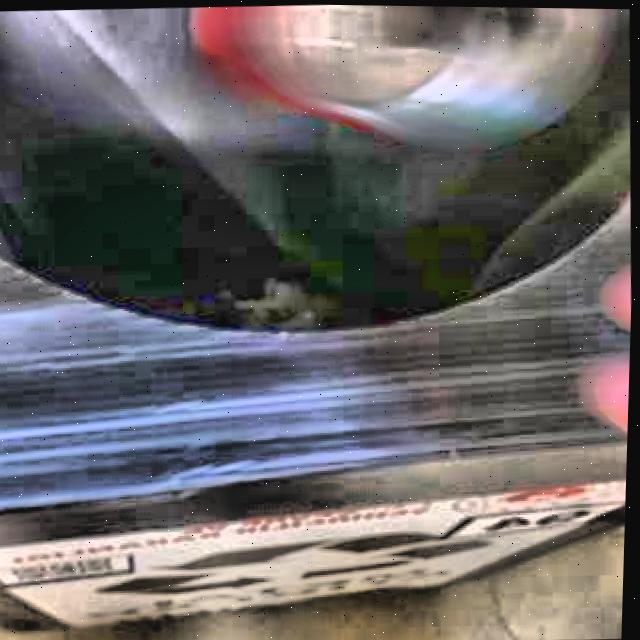metal: (199, 4, 616, 147)
